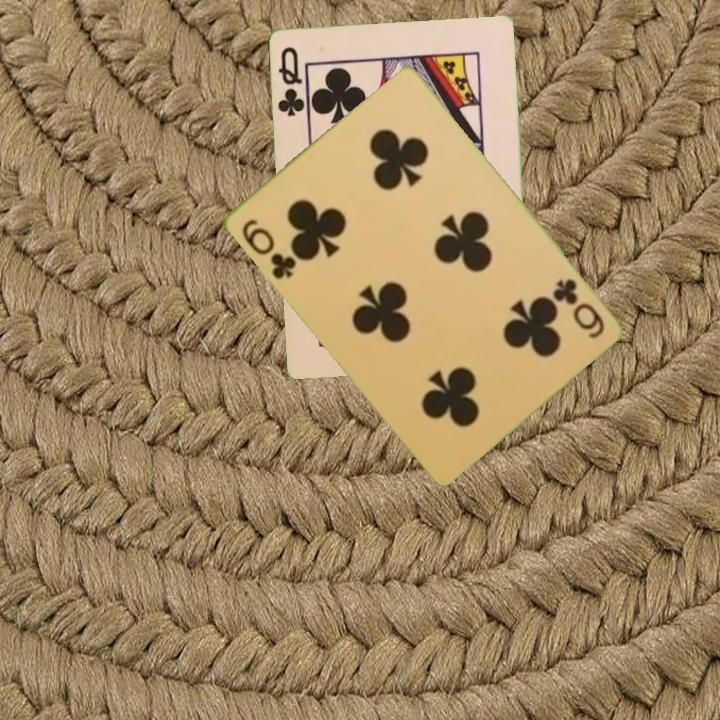6c: (237, 215, 299, 283), (549, 274, 607, 342)
Qc: (274, 42, 307, 119)
